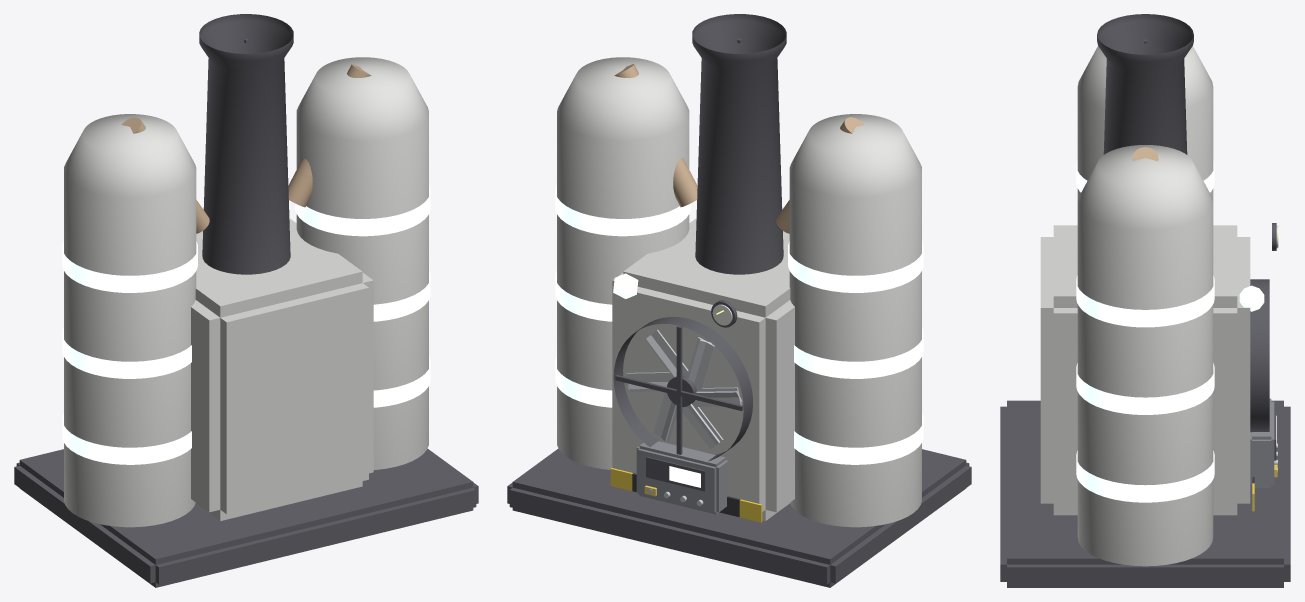
File: decon_1.fbx
3 views of the same model, side by side, from view 1: azimuth 30°, elevation 25°; view 2: azimuth 150°, elevation 25°; view 3: azimuth 270°, elevation 25° (orthographic).
Visible parts, largest first — view 1: decon_1; view 2: decon_1, Spin_Z_Fan; view 3: decon_1, Indicator.
Boxes of the visible parts, x1,y1,x2,y2 form: decon_1: (14, 14, 478, 587); decon_1: (507, 14, 971, 587); Spin_Z_Fan: (626, 330, 742, 449); decon_1: (1000, 14, 1290, 587); Indicator: (1239, 285, 1264, 311).
Bounding box in the file's own units: 2.56 × 3.25 × 1.8.
